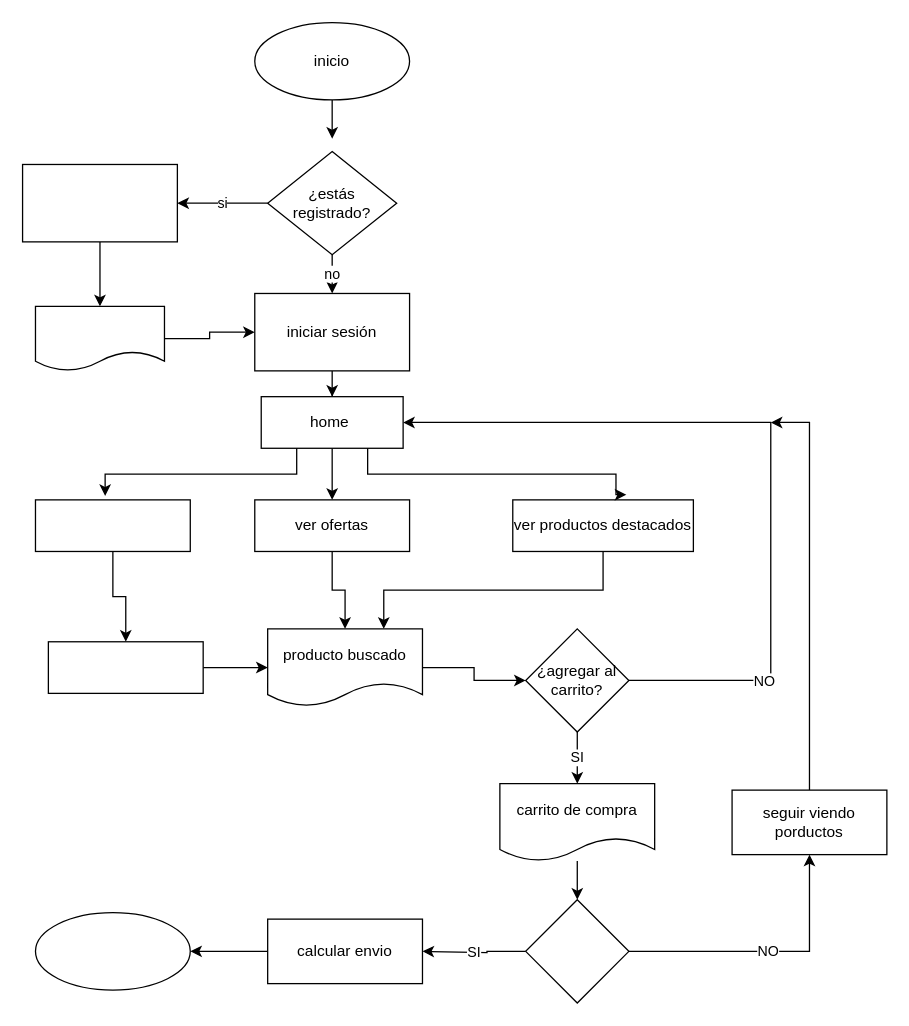
The diagram is 909 pixels wide and 1026 high, and some of its shapes have lost their labels. The box of each missing label's shape, as (x1, y1, x2, y2) in pixels:
buscar producto: (34, 499, 190, 551)
cerrar sesión: (34, 911, 190, 990)
escribir: (47, 640, 203, 693)
formulario de registro: (34, 305, 164, 371)
registrarme: (21, 163, 177, 242)
¿finalizar compra?: (524, 898, 629, 1003)
